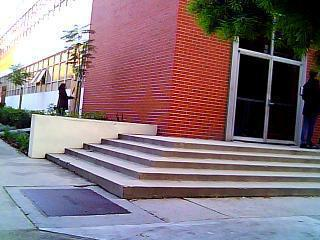Escaleras: (49, 130, 316, 196)
